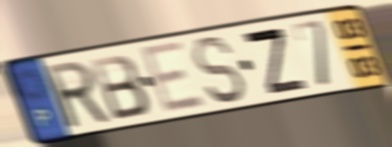7: (290, 17, 333, 89)
B: (87, 51, 151, 123)
E: (136, 39, 209, 118)
R: (41, 57, 114, 131)
S: (188, 34, 249, 106)
Z: (239, 26, 311, 97)
